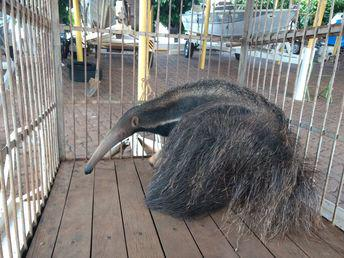TamanduaBandeira: (81, 78, 331, 240)
